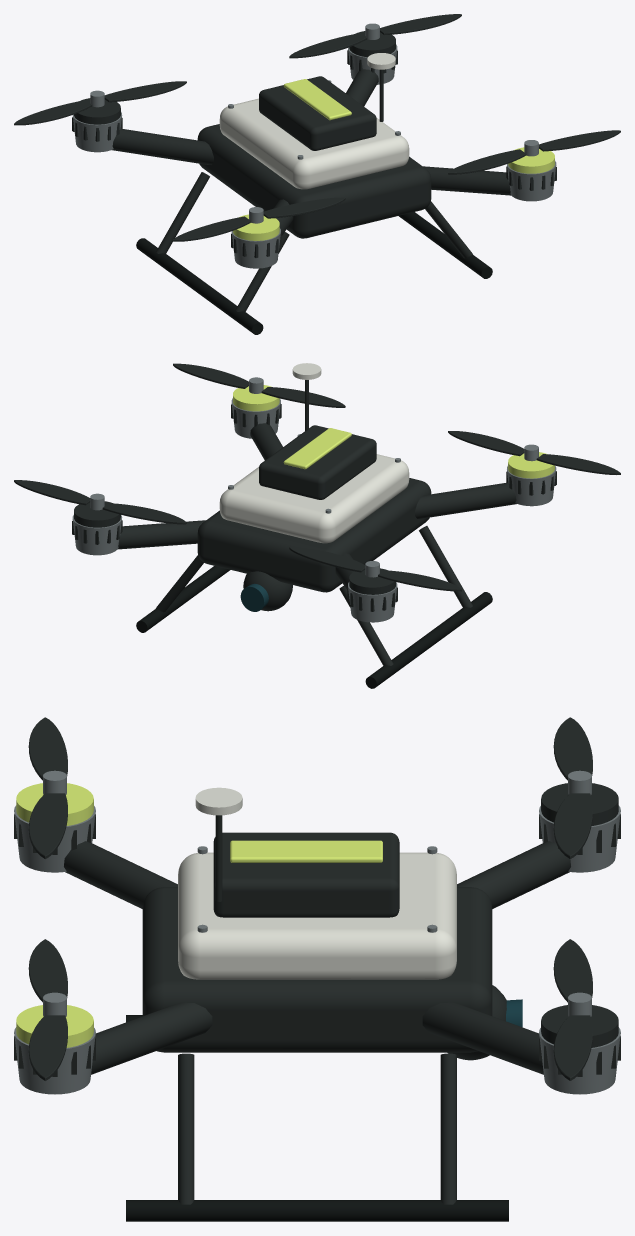
Rendered from uav-15.glb.
The picture shows the model from 3 angles, top to bottom: view 1: azimuth 30°, elevation 25°; view 2: azimuth 150°, elevation 25°; view 3: azimuth 270°, elevation 25°; orthographic projection. The views are drawn at different scales.
Parts seen in each view (by area): view 1: UAV-15 demonstrator, rotor-2, rotor-0, rotor-1, rotor-3; view 2: UAV-15 demonstrator, rotor-2, rotor-3, rotor-1, rotor-0; view 3: UAV-15 demonstrator, rotor-1, rotor-2, rotor-3, rotor-0.
Boxes of the visible parts, bbox=[...] form: UAV-15 demonstrator: bbox=[72, 23, 556, 334]; rotor-2: bbox=[14, 81, 186, 125]; rotor-0: bbox=[448, 130, 620, 174]; rotor-1: bbox=[173, 197, 345, 241]; rotor-3: bbox=[289, 14, 461, 58]; UAV-15 demonstrator: bbox=[72, 363, 556, 688]; rotor-2: bbox=[289, 547, 461, 591]; rotor-3: bbox=[14, 480, 186, 524]; rotor-1: bbox=[448, 431, 620, 474]; rotor-0: bbox=[173, 363, 345, 407]; UAV-15 demonstrator: bbox=[14, 770, 620, 1221]; rotor-1: bbox=[28, 717, 67, 858]; rotor-2: bbox=[553, 717, 592, 858]; rotor-3: bbox=[553, 939, 592, 1080]; rotor-0: bbox=[28, 939, 67, 1080].
Size of what is drawn, in the model's own units: 1.56 by 0.728 by 1.11.
